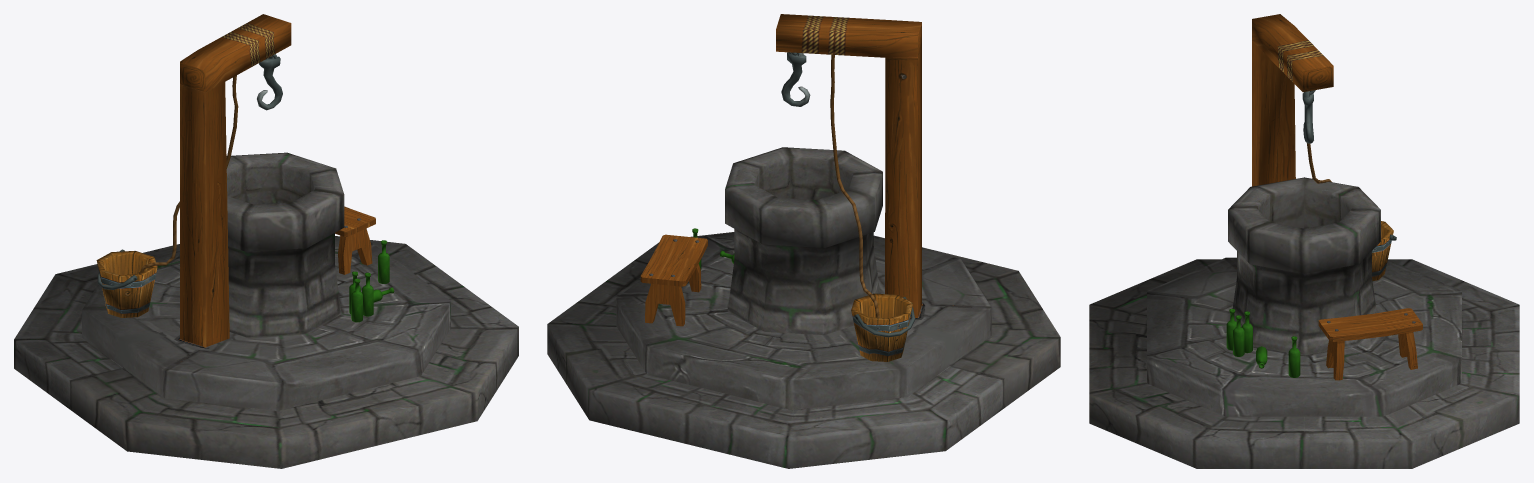
Rendered from Well_02.FBX.
3 views of the same model, side by side, from view 1: azimuth 30°, elevation 25°; view 2: azimuth 150°, elevation 25°; view 3: azimuth 270°, elevation 25° (orthographic). The views are drawn at different scales.
Visible parts, largest first — view 1: w_bn, w_bin, well_bench, botle_3; view 2: w_bn, well_bench, w_bin; view 3: w_bn, well_bench, botle_3, w_bin.
Part boxes in pixels (box(x1,y1,x2,y2)): w_bn: box(14, 14, 518, 468); w_bin: box(96, 249, 157, 317); well_bench: box(335, 206, 375, 274); botle_3: box(349, 271, 373, 322); w_bn: box(547, 14, 1060, 468); well_bench: box(640, 234, 707, 326); w_bin: box(851, 293, 915, 361); w_bn: box(1089, 14, 1519, 468); well_bench: box(1318, 308, 1422, 380); botle_3: box(1226, 308, 1252, 356); w_bin: box(1372, 221, 1396, 280).
Bounding box in the file's own units: 82.06 × 66.87 × 82.06.
